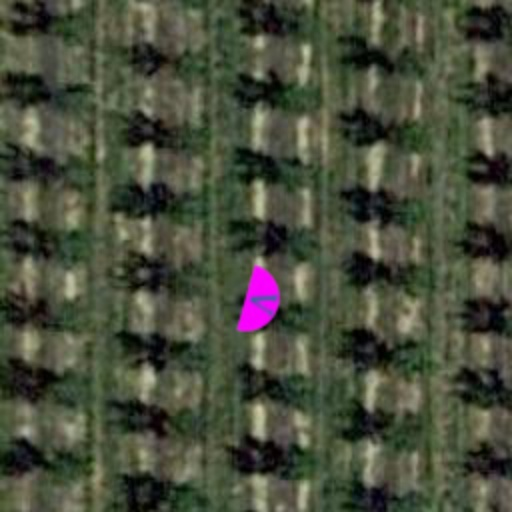semicircle: (220, 260, 304, 344)
